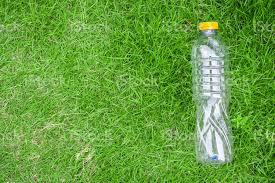plastic_bottle: (190, 20, 235, 166)
